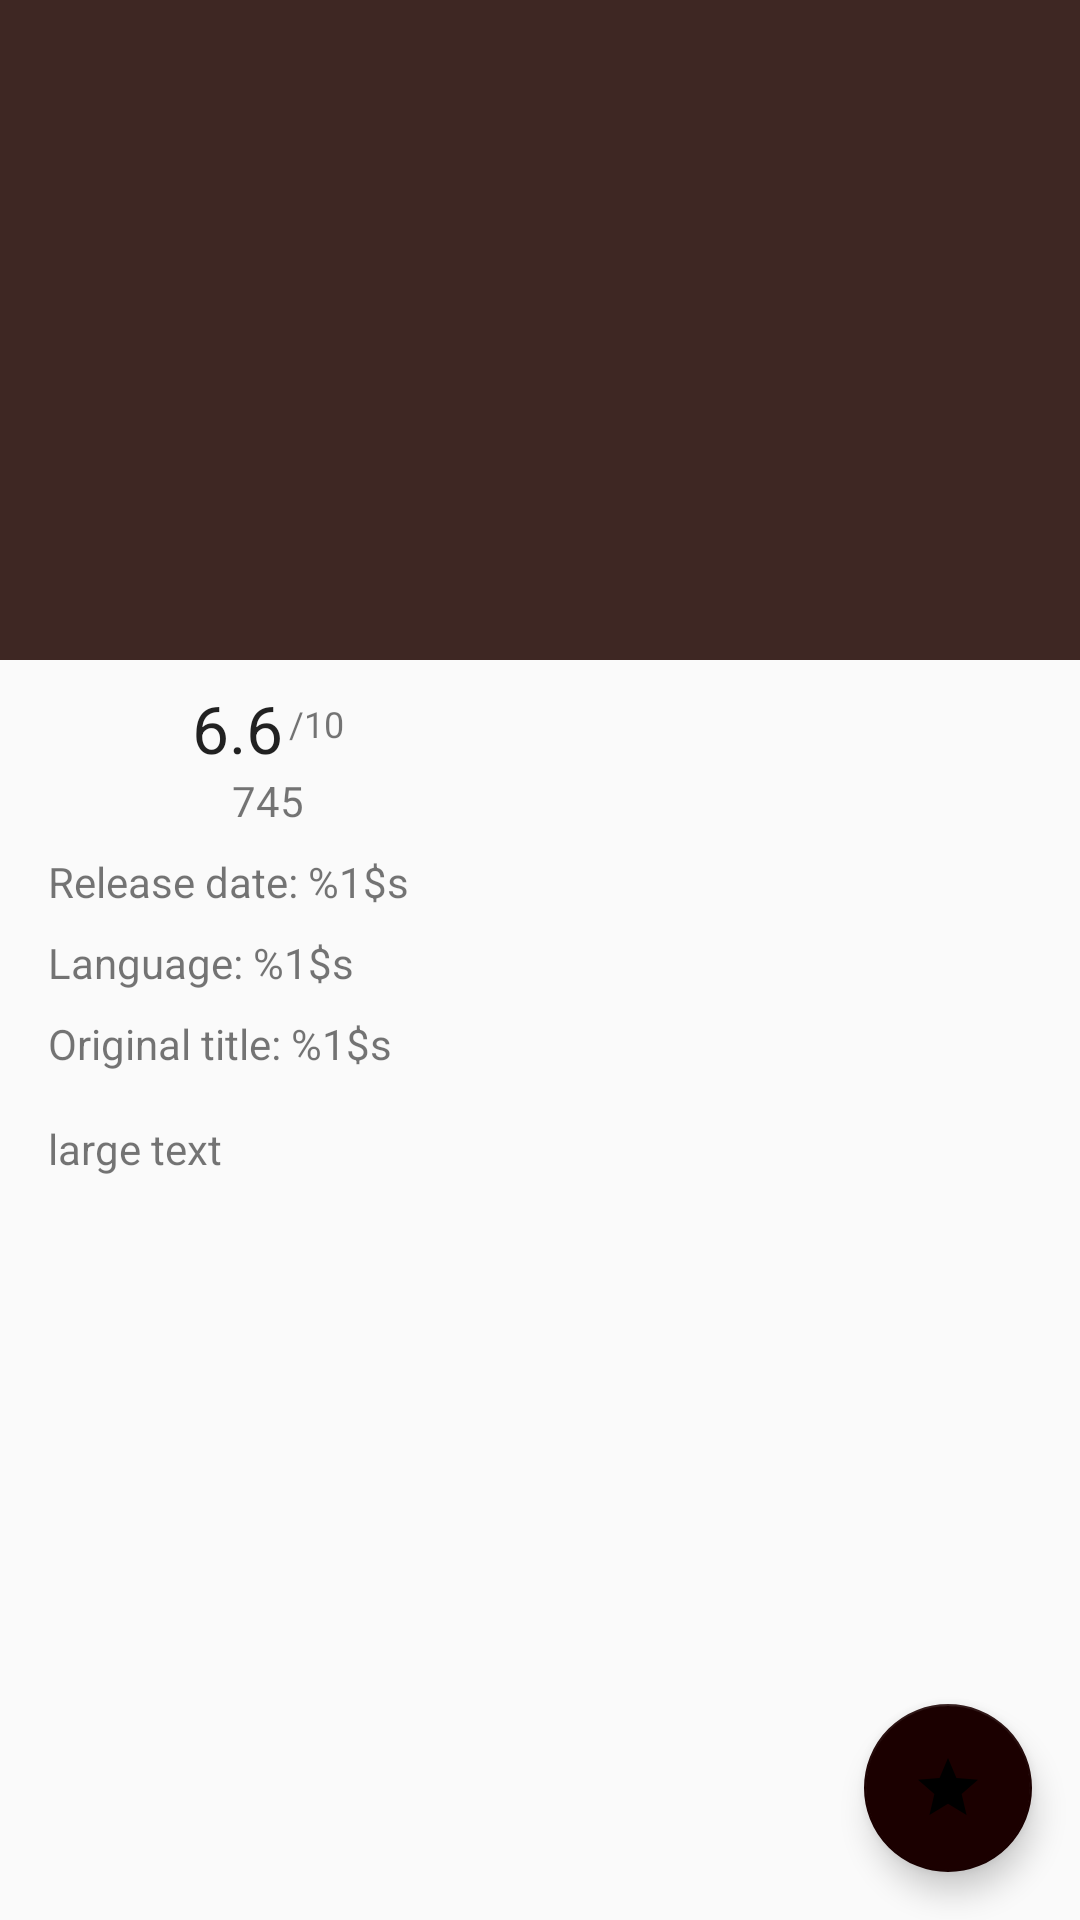

Icon bounding boxes for this 1080 × 1920 phone screenshot, format [x1,y1,x2,y2]:
star: [864,1704,1032,1872]
